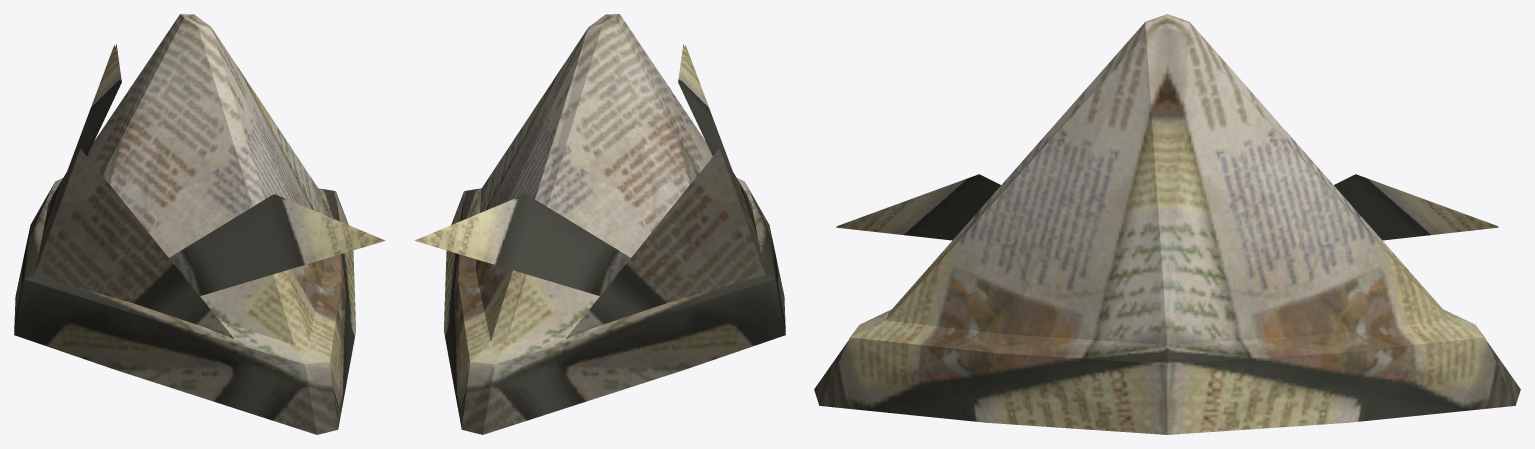
File: Penguin_paperHat.obj
3 renders of one model, left to right at view 1: azimuth 30°, elevation 25°; view 2: azimuth 150°, elevation 25°; view 3: azimuth 270°, elevation 25°, orthographic. The views are drawn at different scales.
Visible parts, largest first — view 1: Penguin_paperHat_tri; view 2: Penguin_paperHat_tri; view 3: Penguin_paperHat_tri.
Part boxes in pixels (<box>): Penguin_paperHat_tri: <box>14,14,385,434</box>; Penguin_paperHat_tri: <box>414,14,785,434</box>; Penguin_paperHat_tri: <box>814,14,1520,434</box>.
Bounding box in the file's own units: 0.3821 × 0.3359 × 0.5599.
Materials: 1 (1 with a texture image).
